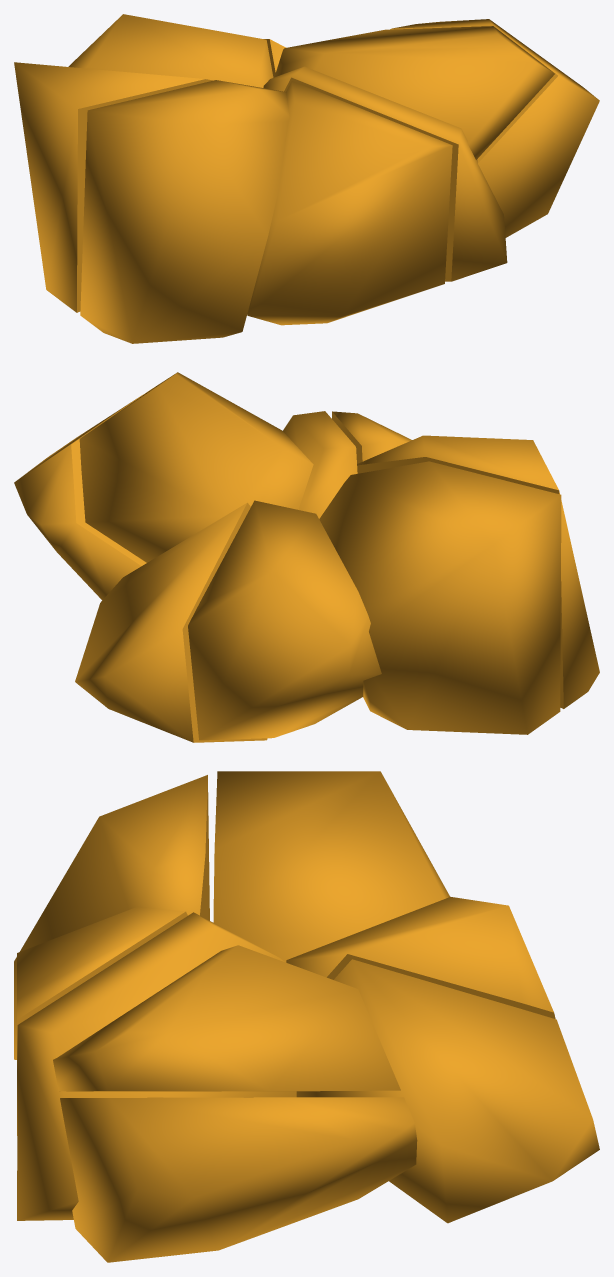
Rendered from GoldGemSeperated.fbx.
The picture shows the model from 3 angles, top to bottom: view 1: azimuth 30°, elevation 25°; view 2: azimuth 150°, elevation 25°; view 3: azimuth 270°, elevation 25°; orthographic projection. The views are drawn at different scales.
Parts seen in each view (by area): view 1: Stones.104_cell.027, Stones.104_cell.016, Stones.104_cell.017, Stones.104_cell.014, Stones.104_cell.018, Stones.104_cell.015, Stones.104_cell.013; view 2: Stones.104_cell.014, Stones.104_cell.013, Stones.104_cell.017, Stones.104_cell.019, Stones.104_cell.027, Stones.104_cell.018, Stones.104_cell.015, Stones.104_cell.016; view 3: Stones.104_cell.018, Stones.104_cell.019, Stones.104_cell.017, Stones.104_cell.014, Stones.104_cell.015, Stones.104_cell.027, Stones.104_cell.013, Stones.104_cell.016.
Part boxes in pixels (left/top/right/bottom): Stones.104_cell.027: left=80, top=80, right=289, bottom=343; Stones.104_cell.016: left=247, top=81, right=452, bottom=325; Stones.104_cell.017: left=273, top=26, right=554, bottom=159; Stones.104_cell.014: left=14, top=62, right=212, bottom=312; Stones.104_cell.018: left=390, top=19, right=599, bottom=237; Stones.104_cell.015: left=263, top=66, right=507, bottom=281; Stones.104_cell.013: left=68, top=14, right=273, bottom=87; Stones.104_cell.014: left=319, top=461, right=561, bottom=734; Stones.104_cell.013: left=188, top=500, right=381, bottom=740; Stones.104_cell.017: left=79, top=372, right=313, bottom=562; Stones.104_cell.019: left=75, top=502, right=267, bottom=742; Stones.104_cell.027: left=357, top=435, right=599, bottom=708; Stones.104_cell.018: left=14, top=395, right=146, bottom=600; Stones.104_cell.015: left=283, top=411, right=357, bottom=518; Stones.104_cell.016: left=332, top=411, right=411, bottom=463; Stones.104_cell.018: left=60, top=1097, right=417, bottom=1262; Stones.104_cell.019: left=296, top=959, right=599, bottom=1223; Stones.104_cell.017: left=53, top=945, right=400, bottom=1091; Stones.104_cell.014: left=213, top=771, right=449, bottom=962; Stones.104_cell.015: left=17, top=912, right=296, bottom=1220; Stones.104_cell.027: left=14, top=775, right=209, bottom=1059; Stones.104_cell.013: left=286, top=896, right=555, bottom=1018; Stones.104_cell.016: left=17, top=906, right=187, bottom=1135.
Bounding box in the file's own units: 0.1736 × 0.0753 × 0.1393.
Materials: 1 (1 with a texture image).
